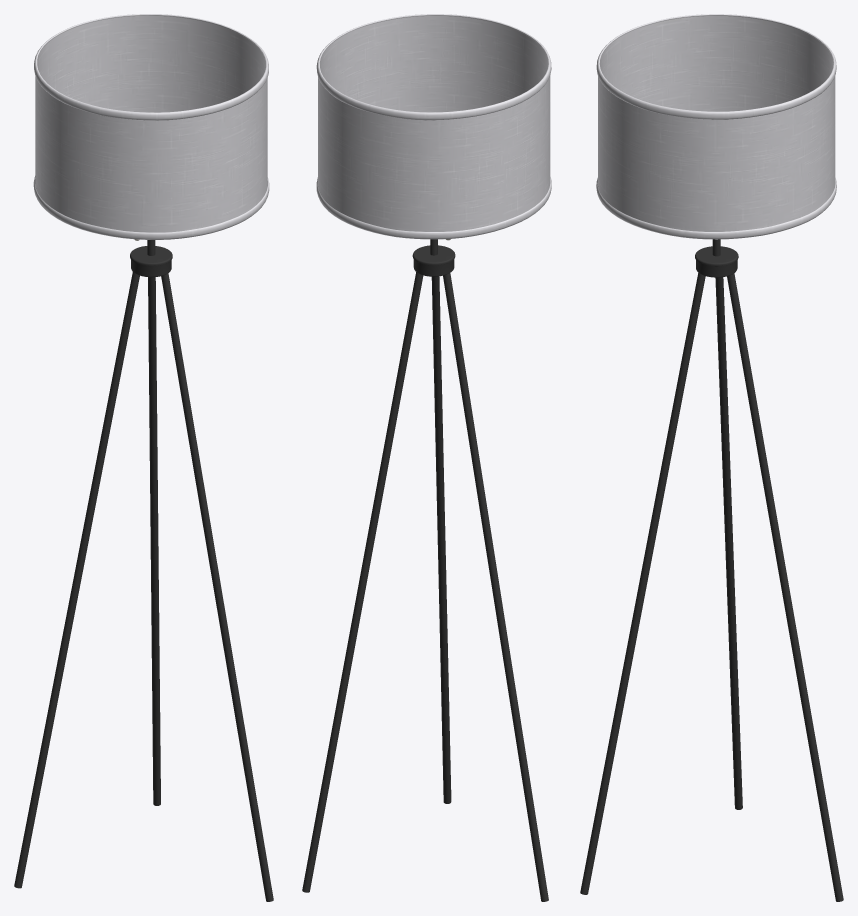
File: abo-B0742D9X4R.glb
3 views of the same model, side by side, from view 1: azimuth 30°, elevation 25°; view 2: azimuth 150°, elevation 25°; view 3: azimuth 270°, elevation 25° (orthographic).
Size of the model in its own units: 0.458 by 1.55 by 0.458.
Materials: 1 (1 with a texture image).
